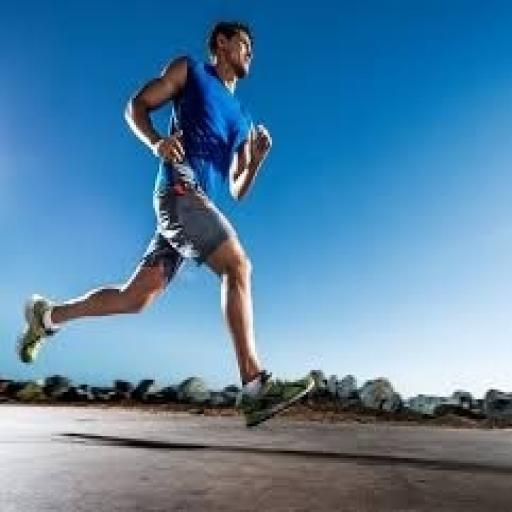running: (13, 17, 323, 429)
